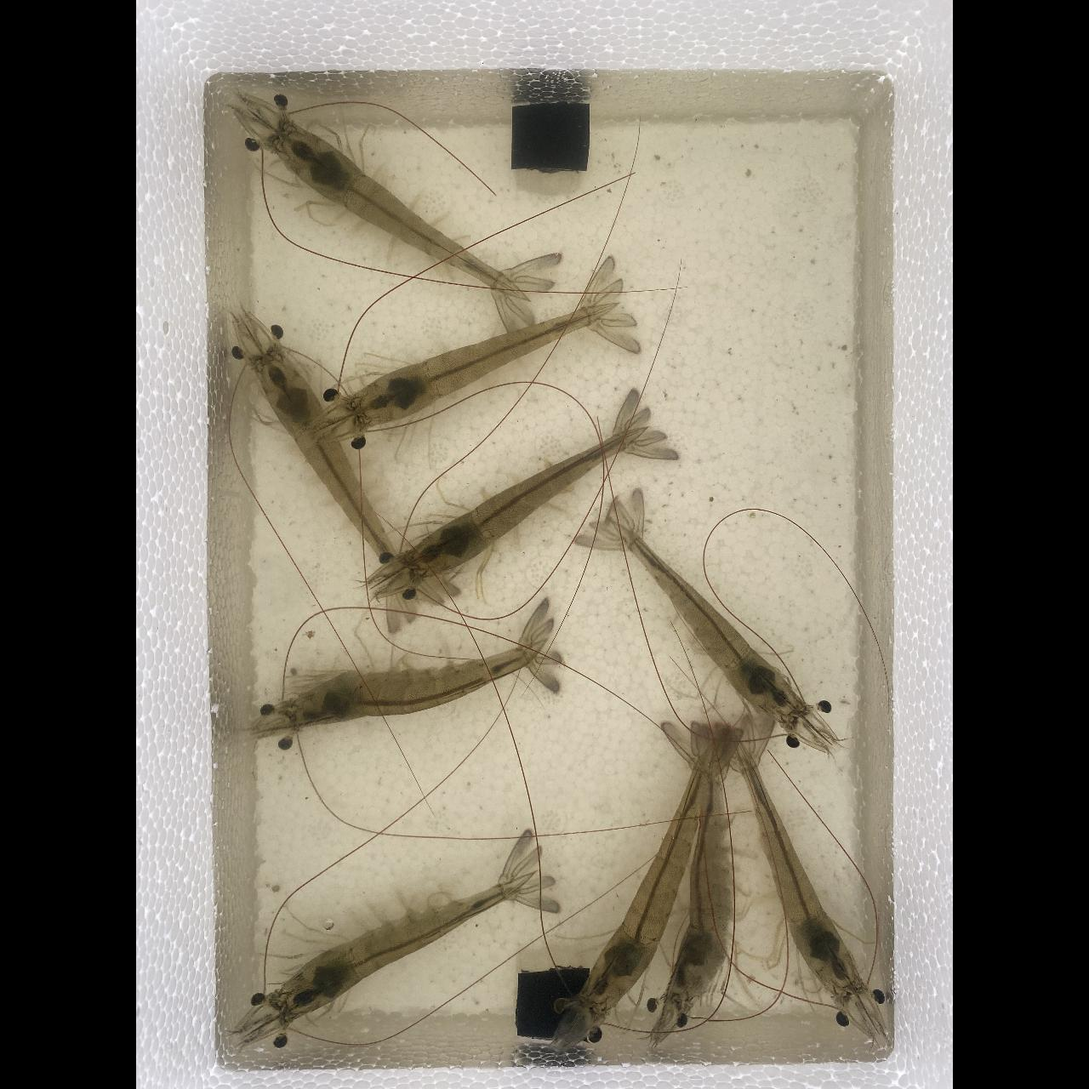box: (512, 100, 590, 170), (517, 966, 589, 1040)
side_shrimp: (669, 750, 727, 1002)
top_shrimp: (274, 124, 522, 296), (405, 427, 638, 577), (277, 878, 522, 1018), (585, 745, 715, 1004), (257, 352, 405, 570), (626, 533, 800, 718), (735, 744, 858, 990), (354, 306, 609, 422), (288, 647, 541, 725)
